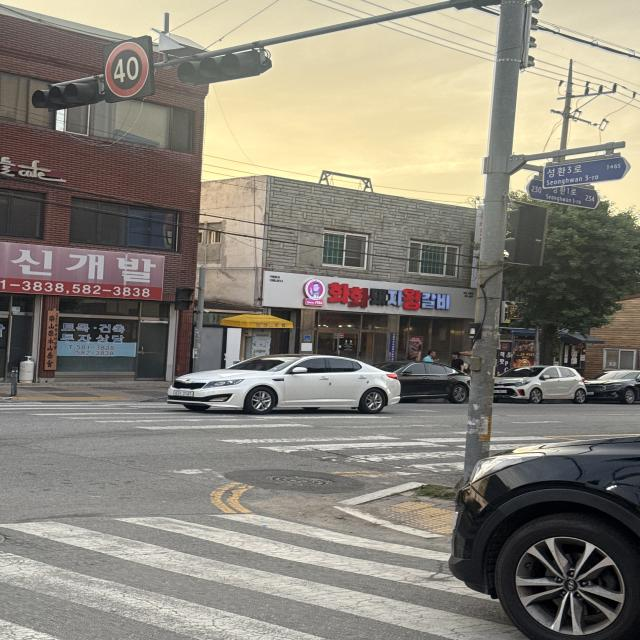car: (442, 432, 640, 639), (167, 354, 401, 415), (494, 365, 587, 404), (373, 361, 453, 402), (582, 370, 640, 404)
